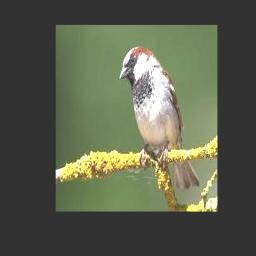Sparrow: (119, 45, 200, 189)
